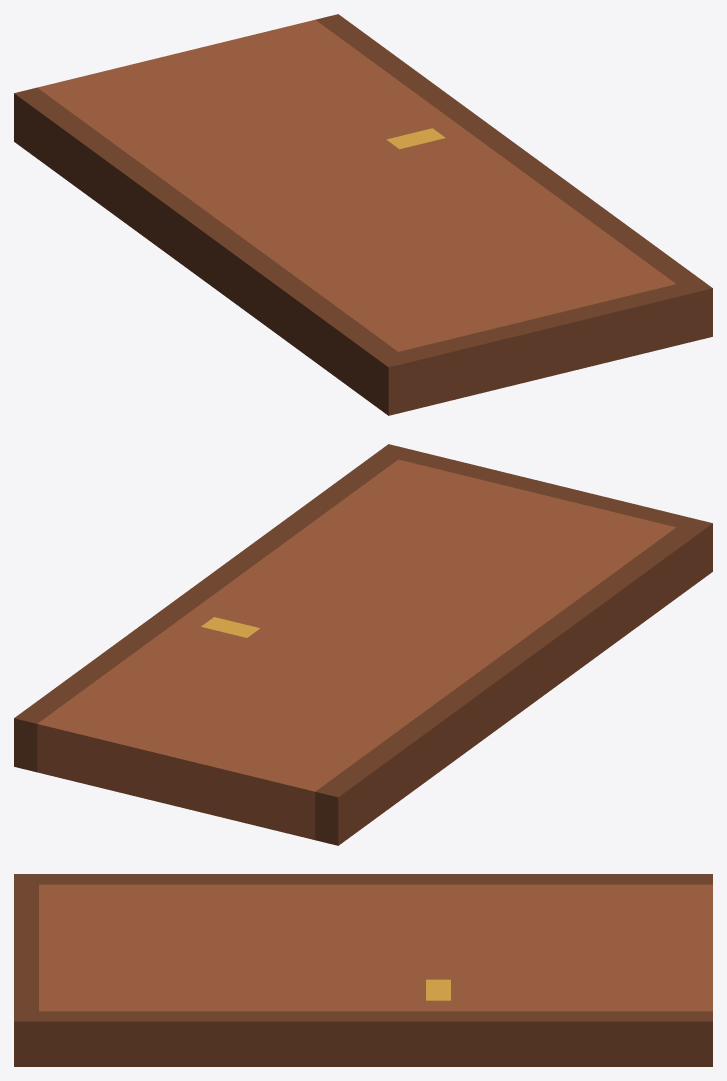
File: obj_doorCollision_2_1.glb
3 renders of one model, top to bottom at view 1: azimuth 30°, elevation 25°; view 2: azimuth 150°, elevation 25°; view 3: azimuth 270°, elevation 25°, orthographic. The views are drawn at different scales.
Parts seen in each view (by area): view 1: Cube; view 2: Cube; view 3: Cube.
Part boxes in pixels (x1,y1,x2,y2): Cube: (14,14,712,415); Cube: (14,444,712,845); Cube: (14,874,712,1066).
Bounding box in the file's own units: 5.6 × 0.8 × 11.2.
